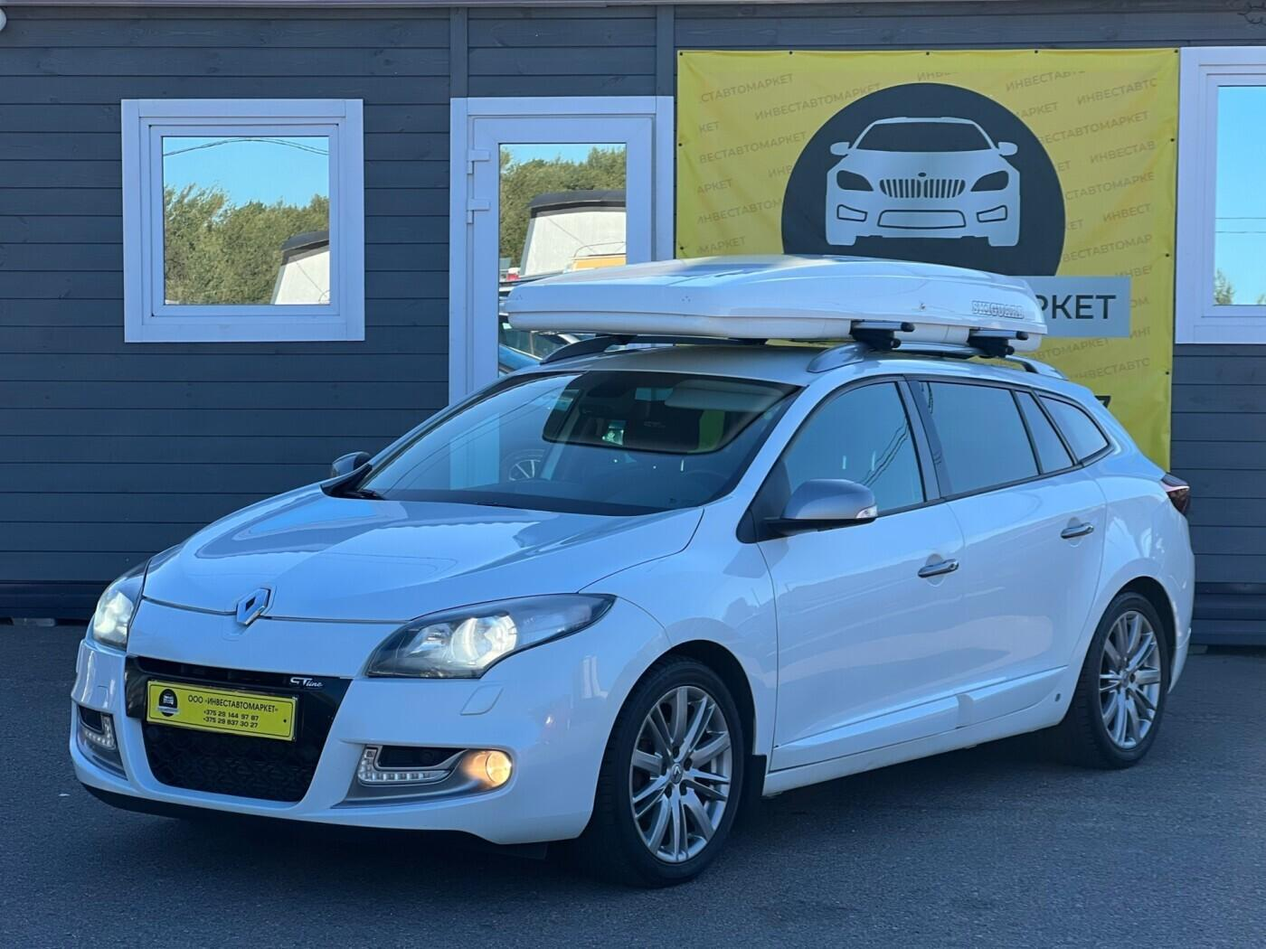Megane_2012-2014: (53, 336, 1200, 856)
